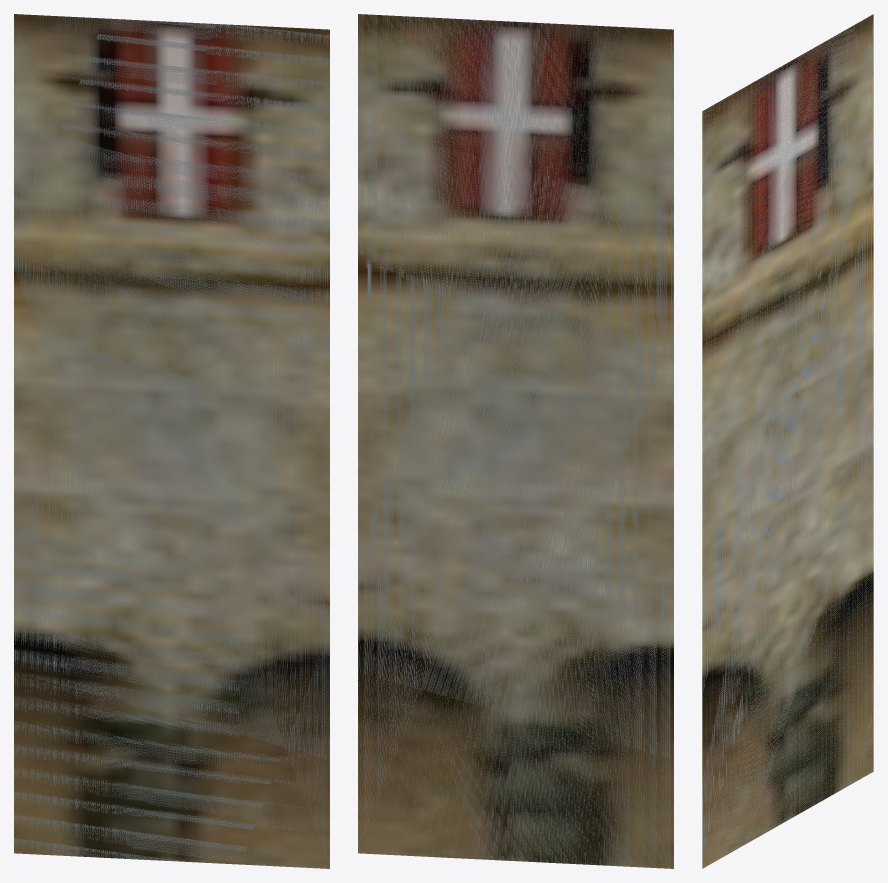
File: 西庸城堡140.dae
3 renders of one model, left to right at view 1: azimuth 30°, elevation 25°; view 2: azimuth 210°, elevation 25°; view 3: azimuth 270°, elevation 25°, orthographic. The views are drawn at different scales.
Parts seen in each view (by area): view 1: SketchUp; view 2: SketchUp; view 3: SketchUp.
Part boxes in pixels (left/top/right/bottom): SketchUp: left=14, top=14, right=329, bottom=868; SketchUp: left=358, top=14, right=673, bottom=868; SketchUp: left=702, top=14, right=873, bottom=868.
Bounding box in the file's own units: 32.54 × 24.22 × 118.
